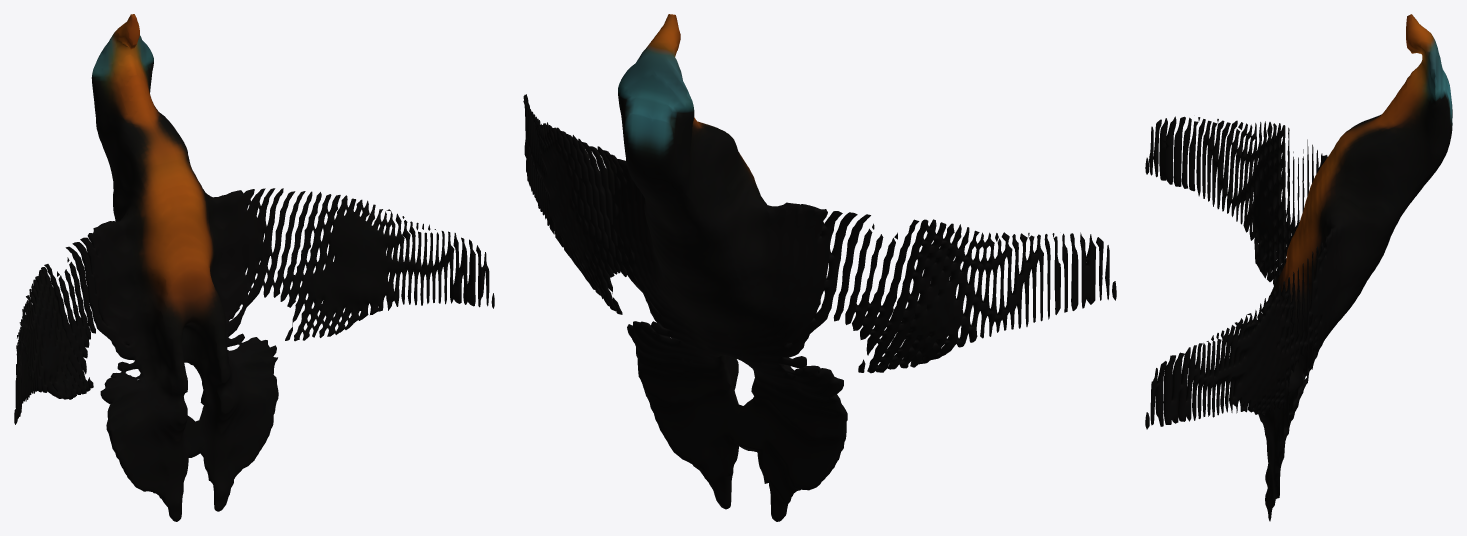
The picture shows the model from 3 angles, left to right: view 1: azimuth 30°, elevation 25°; view 2: azimuth 150°, elevation 25°; view 3: azimuth 270°, elevation 25°; orthographic projection. The views are drawn at different scales.
Parts seen in each view (by area): view 1: plyFile; view 2: plyFile; view 3: plyFile.
Part boxes in pixels (left/top/right/bottom): plyFile: left=14, top=14, right=494, bottom=521; plyFile: left=523, top=14, right=1116, bottom=521; plyFile: left=1145, top=14, right=1452, bottom=521.
Bounding box in the file's own units: 198 × 179 × 101.
